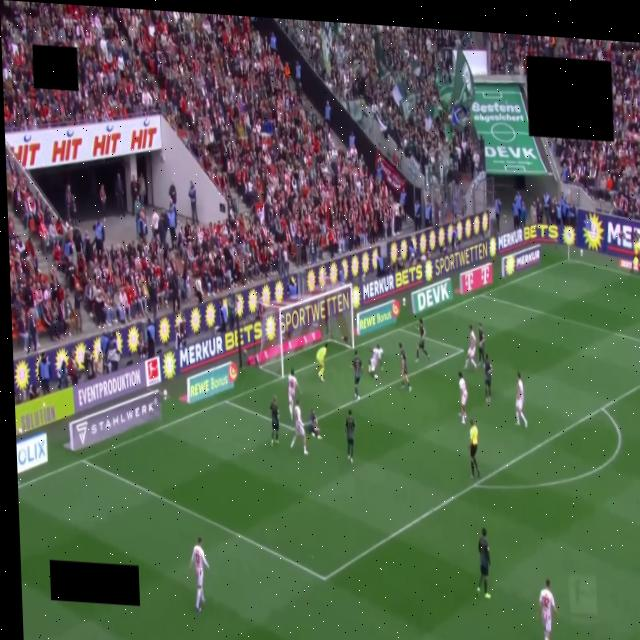player: (190, 538, 209, 612), (538, 579, 557, 639), (477, 527, 490, 598), (291, 400, 308, 454), (516, 373, 527, 427), (458, 372, 469, 425), (399, 343, 411, 391), (416, 319, 429, 362), (464, 326, 477, 368), (351, 351, 362, 400), (345, 409, 355, 462), (288, 370, 299, 418), (369, 344, 382, 379), (307, 409, 322, 439), (270, 395, 279, 445), (316, 343, 327, 381), (484, 354, 492, 402), (478, 323, 485, 363)
referee: (469, 420, 480, 478)
